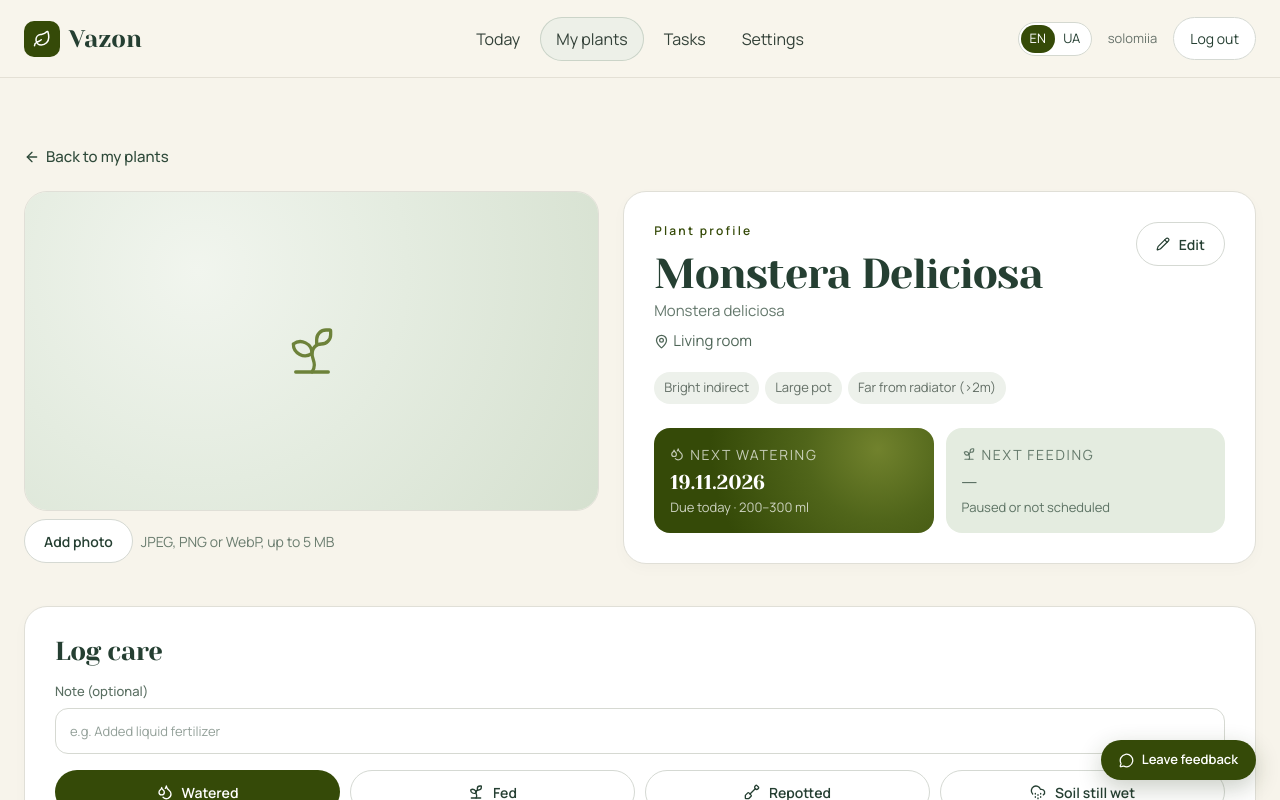
Test: Plant detail & care log flow › opens plant profile, displays care history, and logs a new care action
Expected: the heading "Monstera Deliciosa" is shown, [654,252,1042,296]
Type "Fresh soil mix" into the field labelled "Note (optional)" at point(640, 731), box [55,708,1225,754]
(page scrolled)
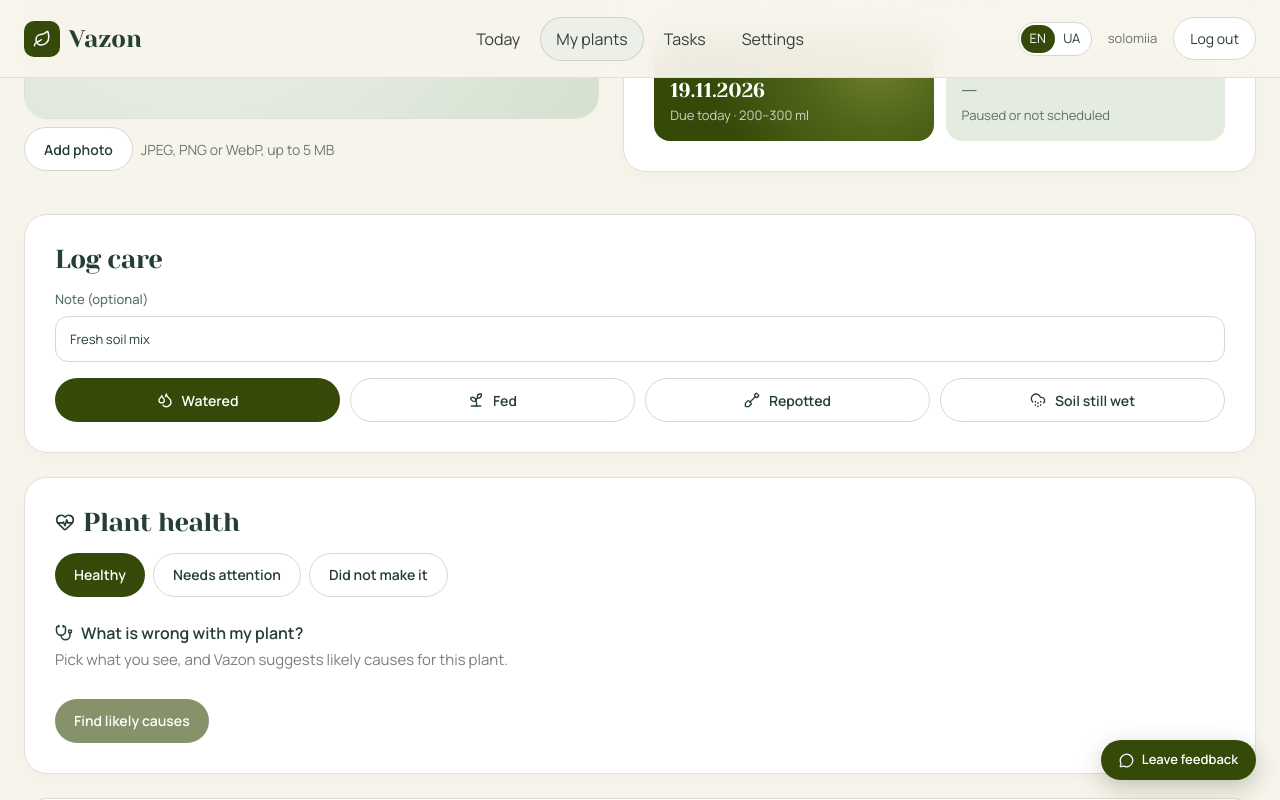
Click the button "Repotted" at point(788, 400), box [645,378,930,422]
(page scrolled)
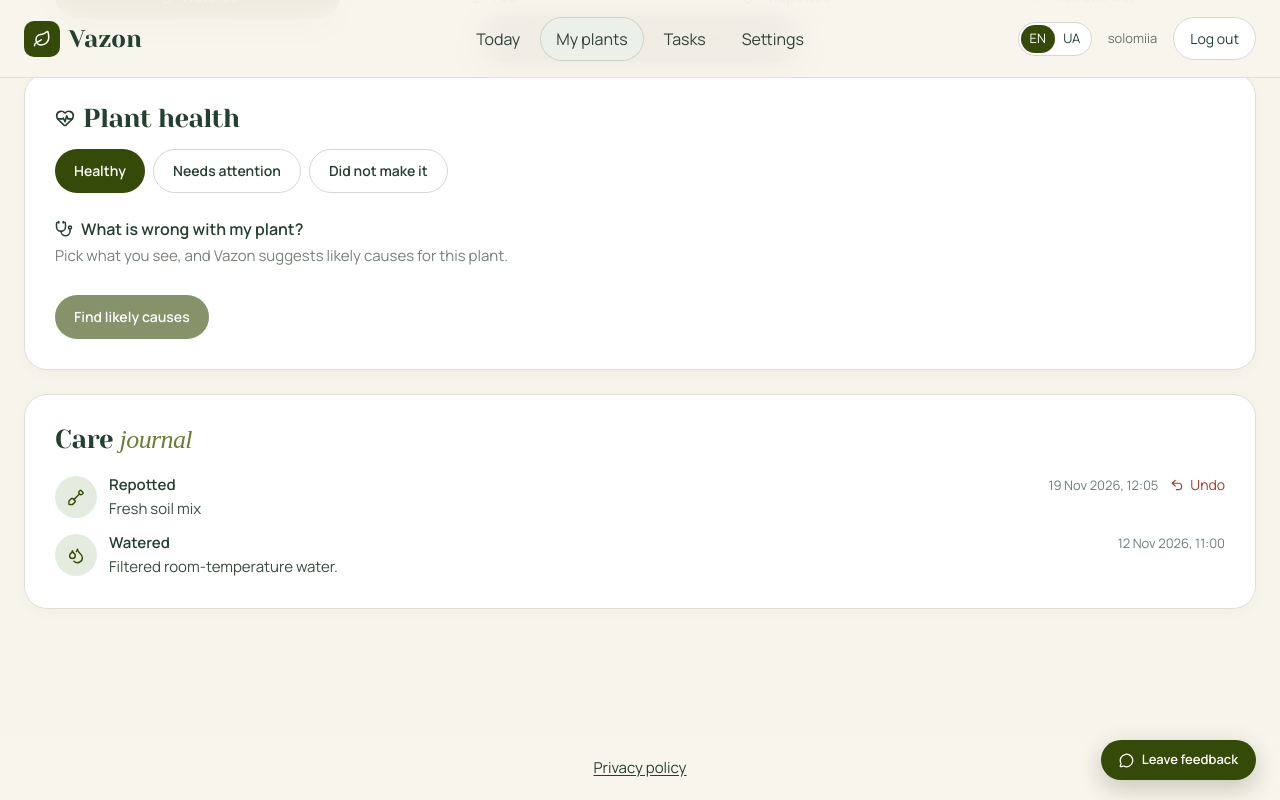
Expected: the text "Fresh soil mix" is shown, [109,498,201,519]
